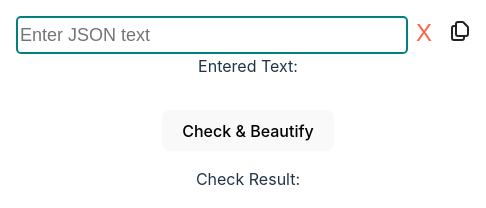
Scenario: JsonConverterCard test › TextInput with illegal JSON should display JSON format
The width and height of the screenshot is (486, 208).
Type "illegal JSON" into the field named "Text Input" at [212, 35], box [16, 16, 408, 54]
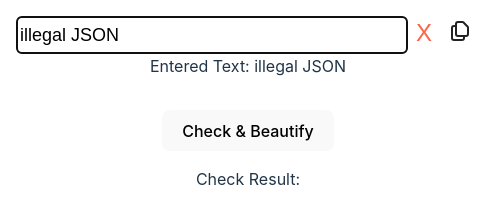
Click the button with aria-label "Check-JSON" at [248, 131], box [162, 110, 334, 151]
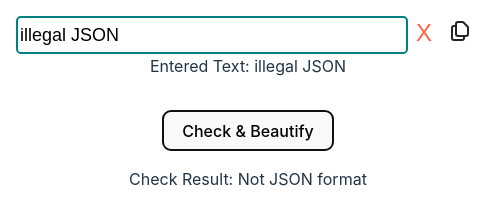
Check: the text "Check Result: Not JSON format" is shown, box [129, 167, 367, 191]
